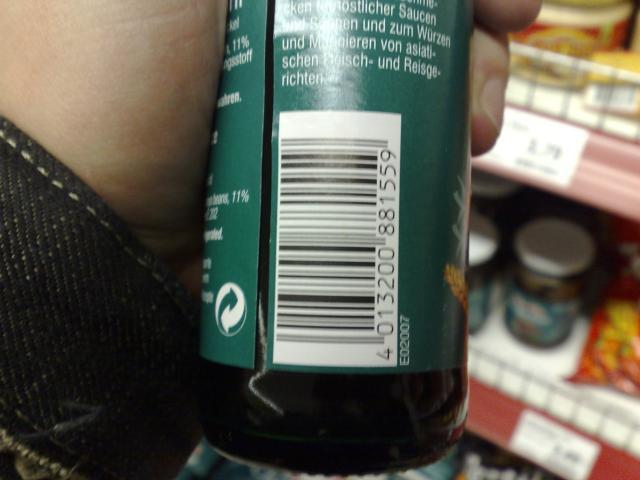Barcode: (273, 131, 401, 369)
